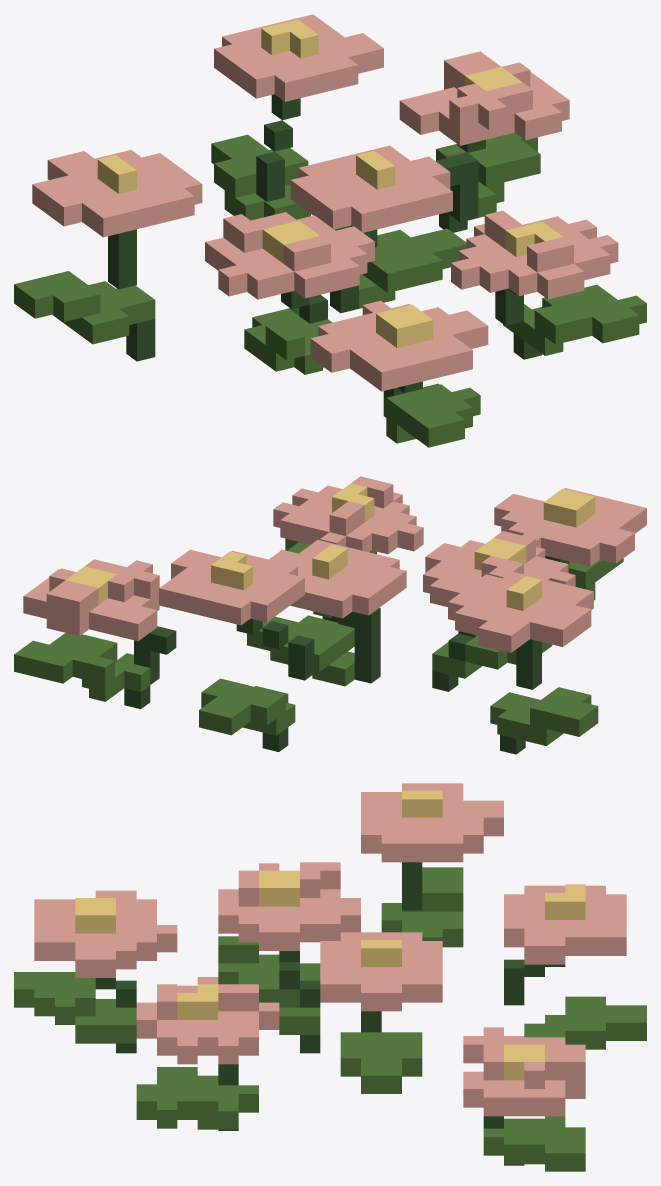
File: flower_cluster_v2_species2_mid.glb
The picture shows the model from 3 angles, top to bottom: view 1: azimuth 30°, elevation 25°; view 2: azimuth 150°, elevation 25°; view 3: azimuth 270°, elevation 25°; orthographic projection. The views are drawn at different scales.
Visible parts, largest first — view 1: flower_cluster_v2_species2_mid; view 2: flower_cluster_v2_species2_mid; view 3: flower_cluster_v2_species2_mid.
Part boxes in pixels (x1,y1,x2,y2): flower_cluster_v2_species2_mid: (14,14,646,447); flower_cluster_v2_species2_mid: (14,476,646,754); flower_cluster_v2_species2_mid: (14,783,646,1171).
Size of the model in its own units: 1.94 by 0.6875 by 1.94.
Materials: 1 (1 with a texture image).
